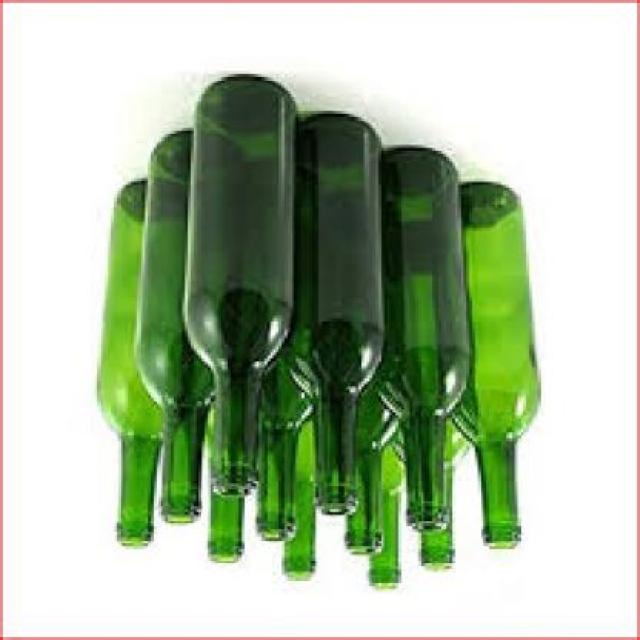GLASS: (179, 79, 293, 501), (282, 117, 378, 517), (372, 151, 466, 535), (447, 186, 538, 552), (131, 134, 214, 526), (94, 186, 177, 548), (387, 418, 467, 574), (250, 353, 310, 538), (342, 384, 402, 558), (367, 434, 407, 592), (278, 424, 316, 581), (204, 489, 238, 566)
